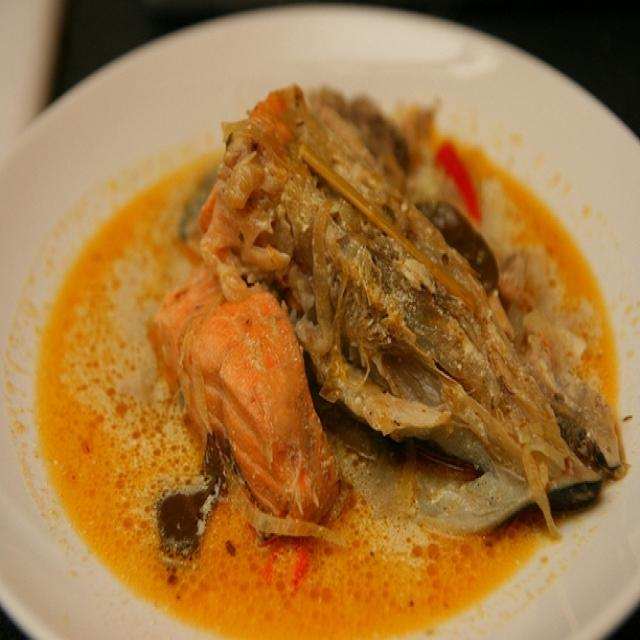熟制海鲜: (22, 34, 621, 626)
